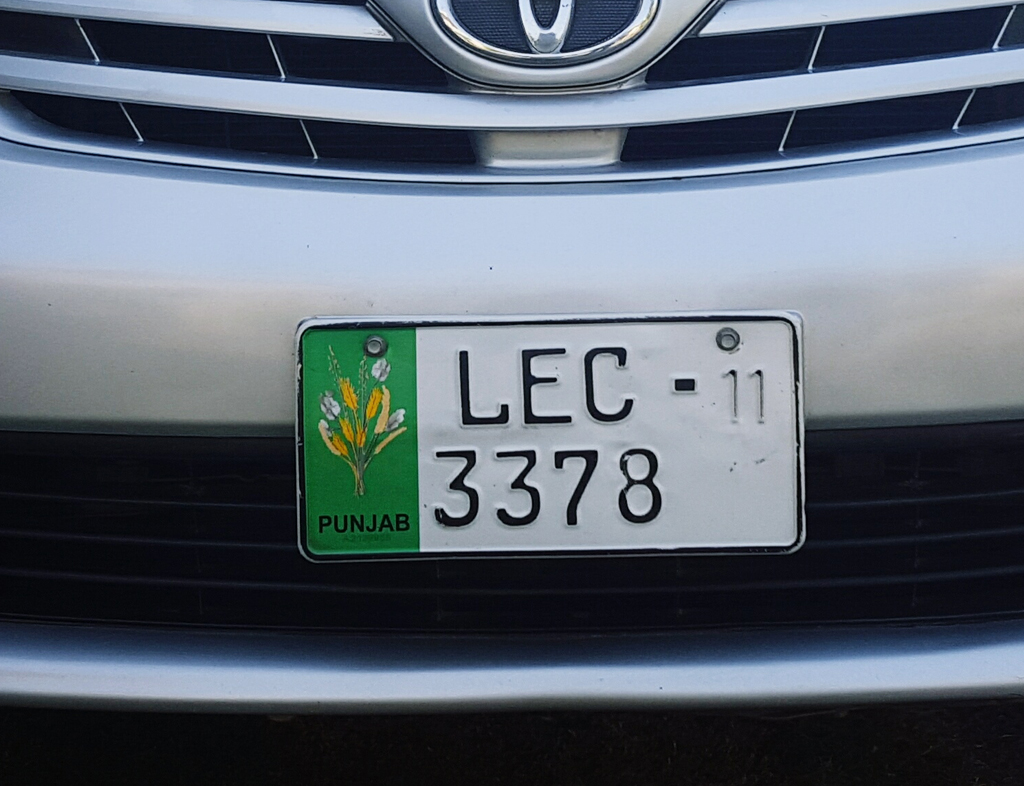Number Plate (Car): (294, 323, 799, 551)
